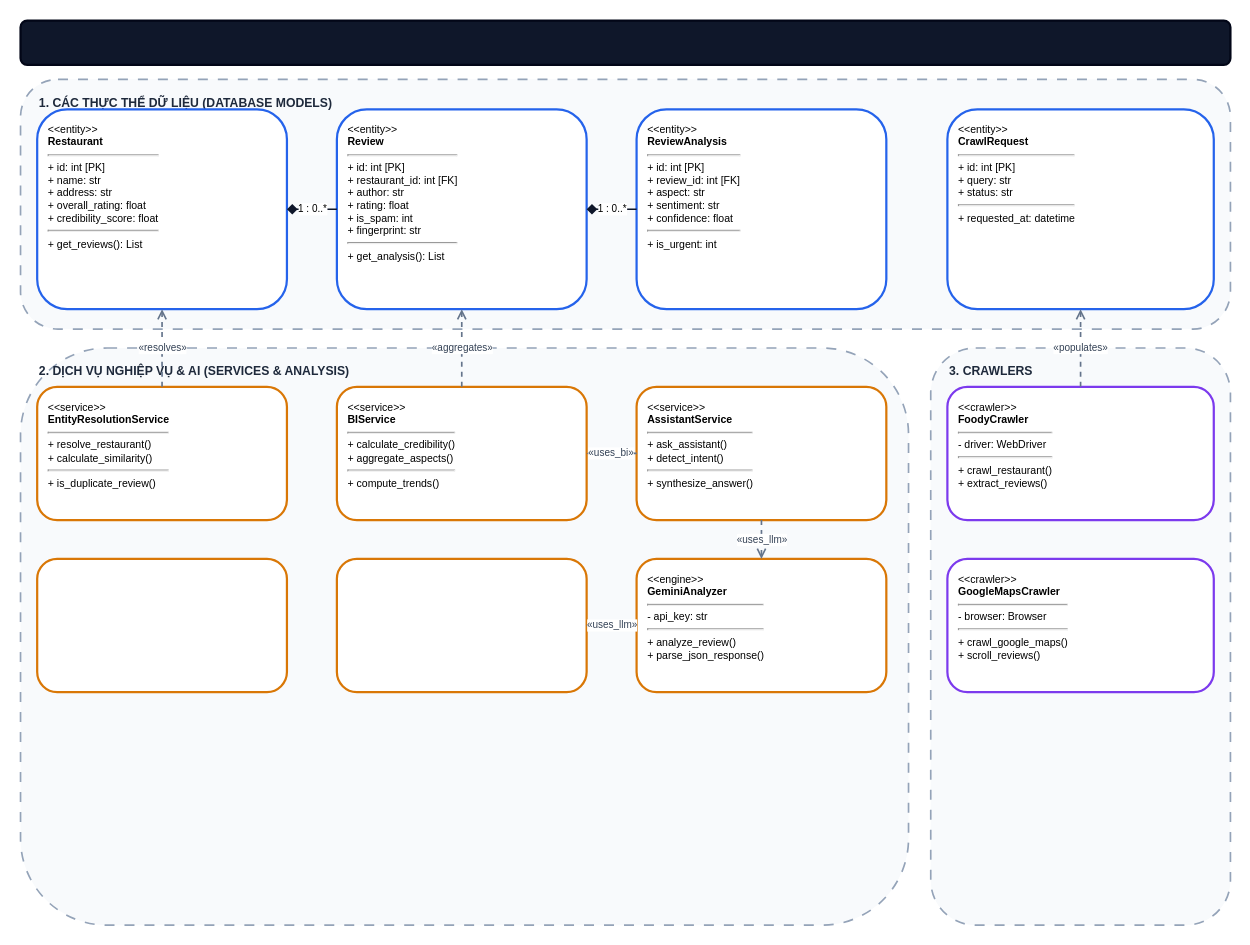
Image size: 1250x945. Some labels were removed from this diagram. The shapes that lost their labels are listed below. From the top down, each one's centre as x and y in pixels, then its label:
At (625,42): "SƠ ĐỒ LỚP (UML CLASS DIAGRAM)".
At (161,625): "<<service>> ReviewFilter - patterns: List + check_spam() + is_valid_length()".
At (461,625): "<<service>> ReplyService + generate_reply() + build_prompt() + make_voucher()".
